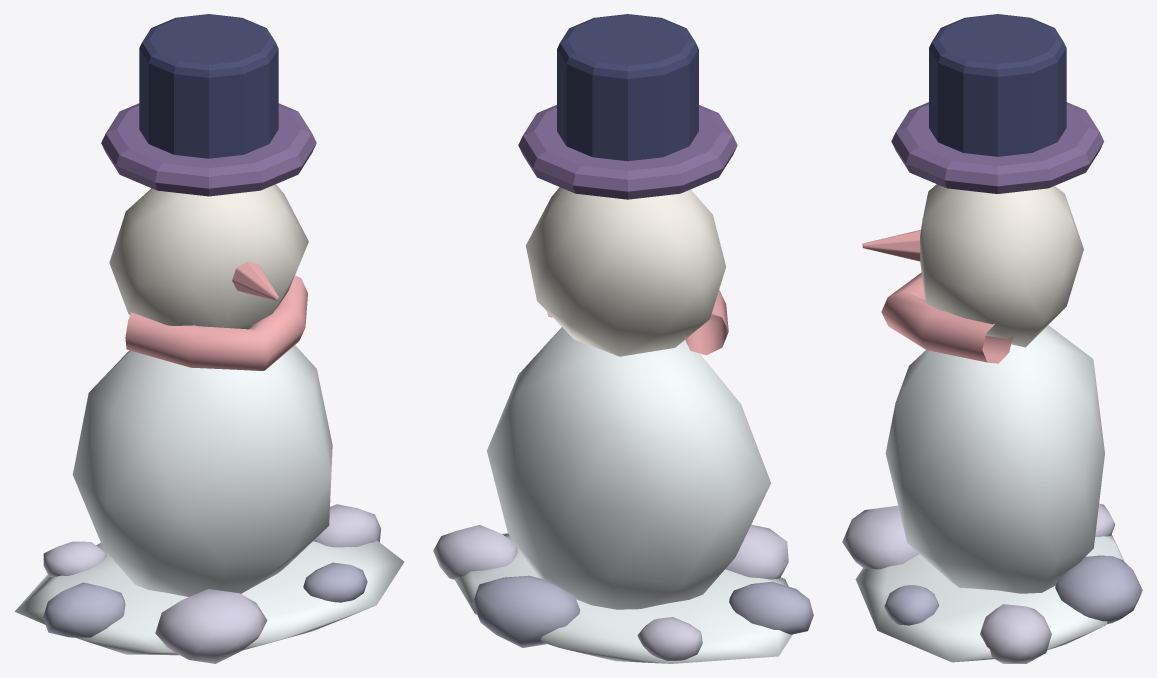
File: lagoon_alpine_snowman.glb
3 views of the same model, side by side, from view 1: azimuth 30°, elevation 25°; view 2: azimuth 150°, elevation 25°; view 3: azimuth 270°, elevation 25° (orthographic). The views are drawn at different scales.
Parts seen in each view (by area): view 1: lagoon_alpine_snowman.001; view 2: lagoon_alpine_snowman.001; view 3: lagoon_alpine_snowman.001.
Boxes of the visible parts, x1,y1,x2,y2 form: lagoon_alpine_snowman.001: [14, 14, 404, 663]; lagoon_alpine_snowman.001: [433, 14, 813, 663]; lagoon_alpine_snowman.001: [842, 14, 1142, 663].
Size of the model in its own units: 3.17 by 4.96 by 2.4.
